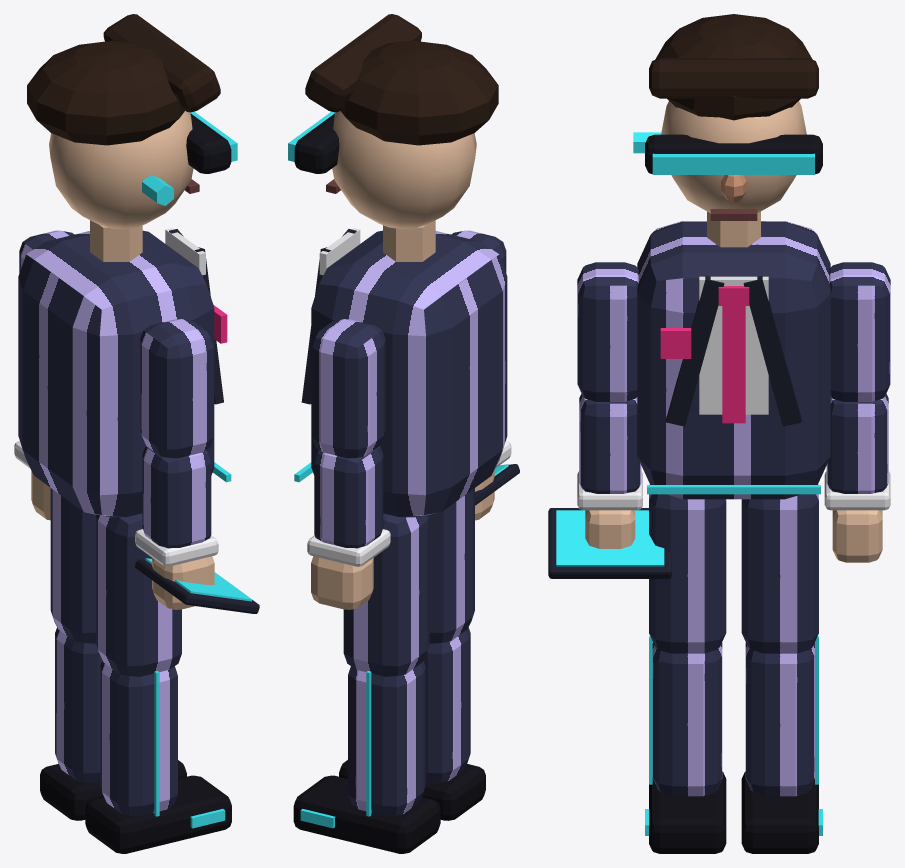
File: consultant.glb
The picture shows the model from 3 angles, left to right: view 1: azimuth 30°, elevation 25°; view 2: azimuth 150°, elevation 25°; view 3: azimuth 270°, elevation 25°; orthographic projection. The views are drawn at different scales.
Parts seen in each view (by area): view 1: p_rbox.133, p_sph.312, p_rbox.120, p_sph.310, p_rbox.119, p_rbox.122, p_rbox.127, p_rbox.123, p_rbox.126, p_rbox.121, p_rbox.135, p_rbox.128 (+12 smaller); view 2: p_rbox.133, p_sph.312, p_sph.310, p_rbox.127, p_rbox.126, p_rbox.129, p_rbox.120, p_rbox.130, p_rbox.119, p_rbox.128, p_rbox.135, p_rbox.132 (+10 smaller); view 3: p_rbox.133, p_rbox.126, p_rbox.119, p_rbox.120, p_rbox.127, p_rbox.129, p_rbox.122, p_sph.312, p_rbox.135, p_sph.310, p_rbox.130, p_rbox.123 (+17 smaller).
Boxes of the visible parts, x1,y1,x2,y2 form: p_rbox.133: (18, 230, 214, 517); p_sph.312: (27, 40, 184, 145); p_rbox.120: (100, 661, 177, 815); p_sph.310: (49, 111, 193, 229); p_rbox.119: (96, 513, 181, 676); p_rbox.122: (140, 319, 213, 458); p_rbox.127: (55, 627, 102, 782); p_rbox.123: (142, 446, 211, 548); p_rbox.126: (50, 488, 95, 643); p_rbox.121: (85, 775, 231, 853); p_rbox.135: (103, 14, 220, 112); p_rbox.128: (40, 760, 186, 820); p_rbox.133: (311, 230, 507, 517); p_sph.312: (340, 40, 498, 145); p_sph.310: (332, 111, 476, 229); p_rbox.127: (348, 661, 425, 815); p_rbox.126: (343, 513, 429, 676); p_rbox.129: (312, 319, 385, 458); p_rbox.120: (423, 627, 470, 782); p_rbox.130: (314, 446, 383, 548); p_rbox.119: (429, 488, 474, 643); p_rbox.128: (293, 775, 440, 853); p_rbox.135: (305, 14, 421, 112); p_rbox.132: (311, 556, 373, 609); p_rbox.133: (637, 221, 830, 499); p_rbox.126: (741, 484, 818, 653); p_rbox.119: (649, 484, 726, 653); p_rbox.120: (652, 642, 722, 796); p_rbox.127: (745, 642, 814, 796); p_rbox.129: (829, 262, 890, 401); p_rbox.122: (577, 262, 638, 401); p_sph.312: (655, 14, 812, 120); p_rbox.135: (649, 58, 818, 98); p_sph.310: (661, 101, 806, 213); p_rbox.130: (826, 393, 888, 493); p_rbox.123: (579, 393, 641, 493).
Size of the model in its own units: 0.5023 by 2.25 by 0.885.
Materials: 11 (1 with a texture image).
